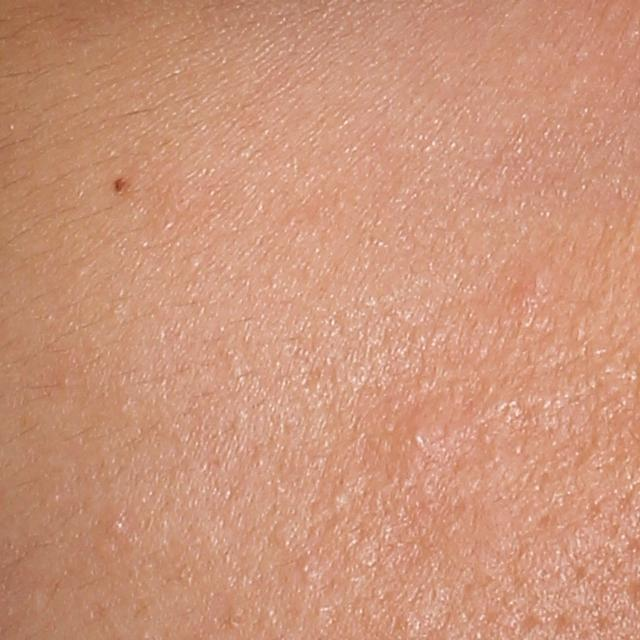comedo: (408, 422, 434, 448), (104, 515, 129, 536), (328, 489, 347, 509)
nevus: (109, 173, 133, 199)
